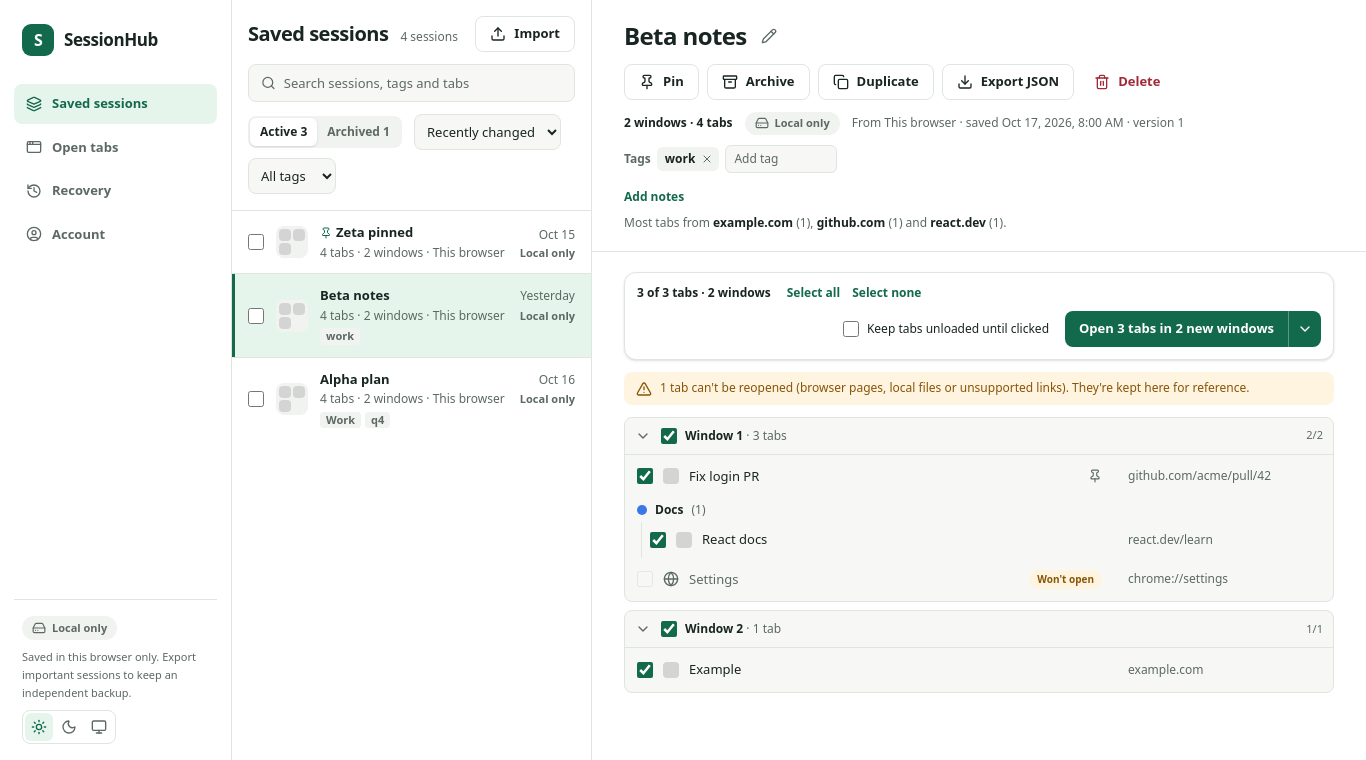
Test: the inspector › pins, tags, adds notes, duplicates and archives the open session
Click the button "Pin": (661, 82) 624,64 -> 699,100
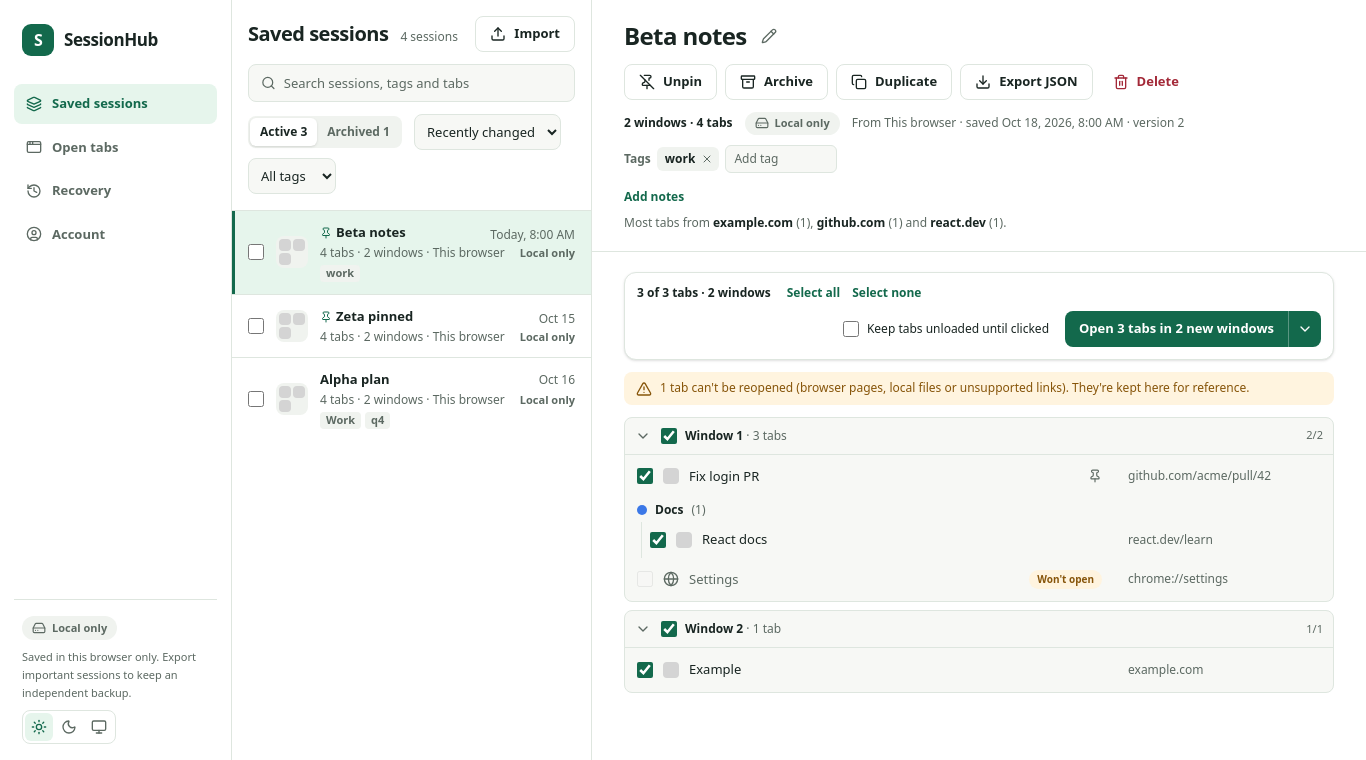
Expected: the text "Beta notes" is shown, 336,223 -> 406,242
Now the button "Unpin" is pressed, box 624,64 -> 717,100
In the field named "Add a tag": (781, 159) 725,145 -> 837,173, type "reading"
Then press Enter
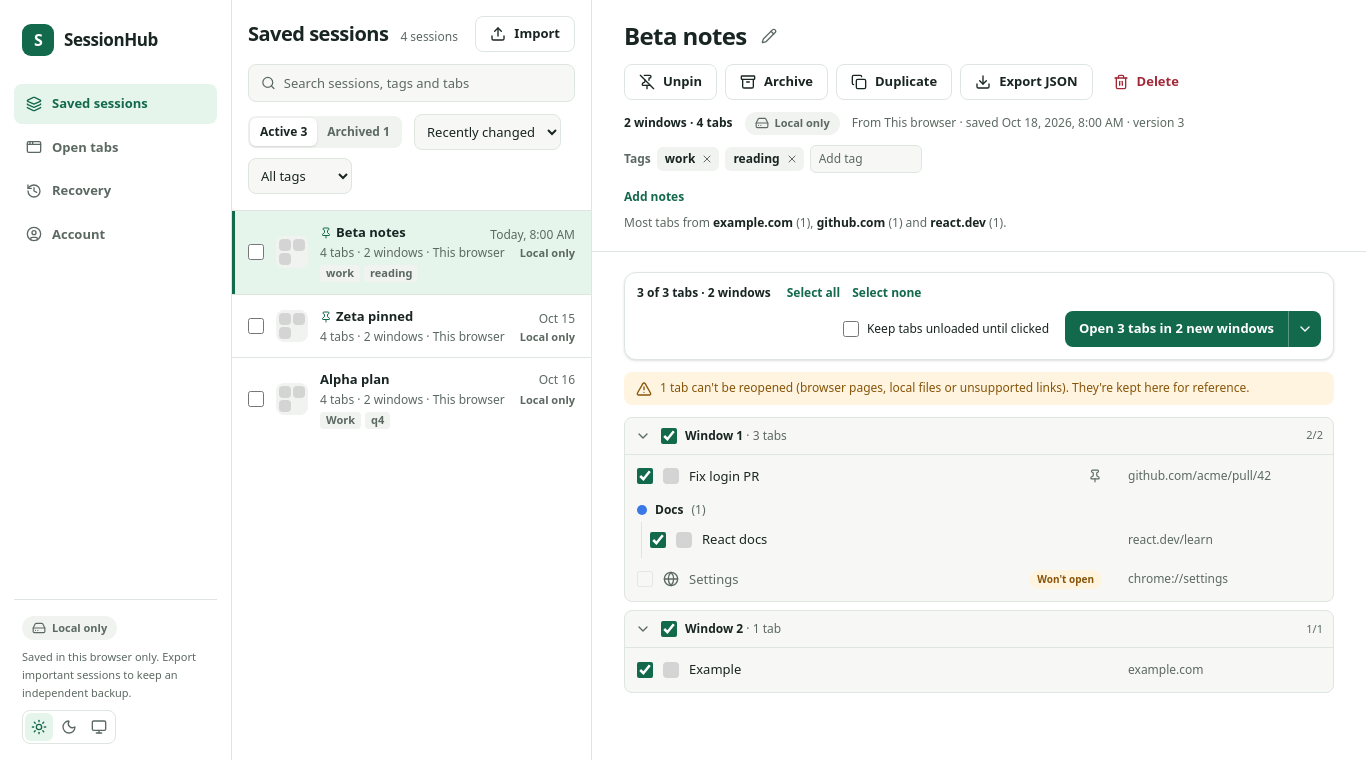
Now the button named "Remove tag reading" is shown, box 782,149 -> 802,169
Click the button "Add notes": (654, 197) 624,189 -> 684,205
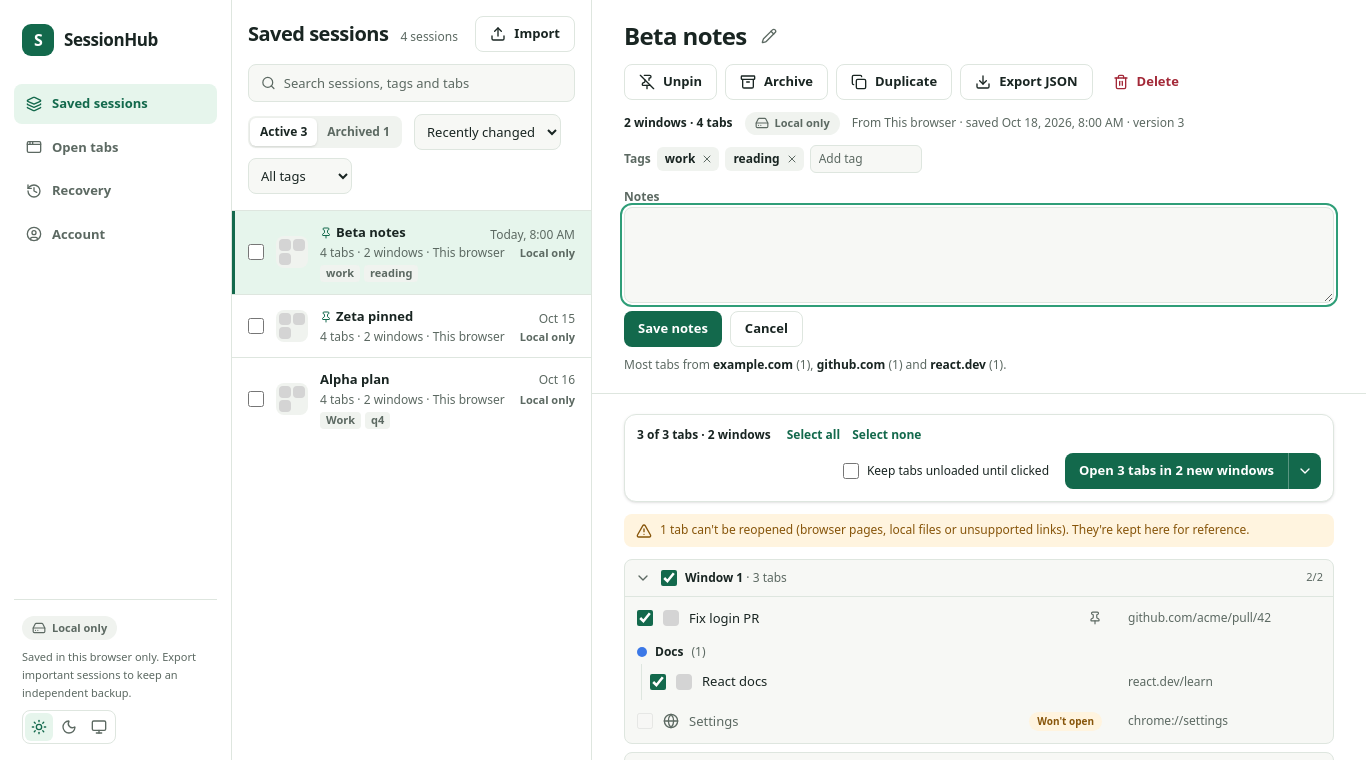
In the text box labelled "Notes": (979, 255) 624,207 -> 1334,303, type "Finish chapter 3"
Click the button "Save notes": (673, 329) 624,311 -> 722,347
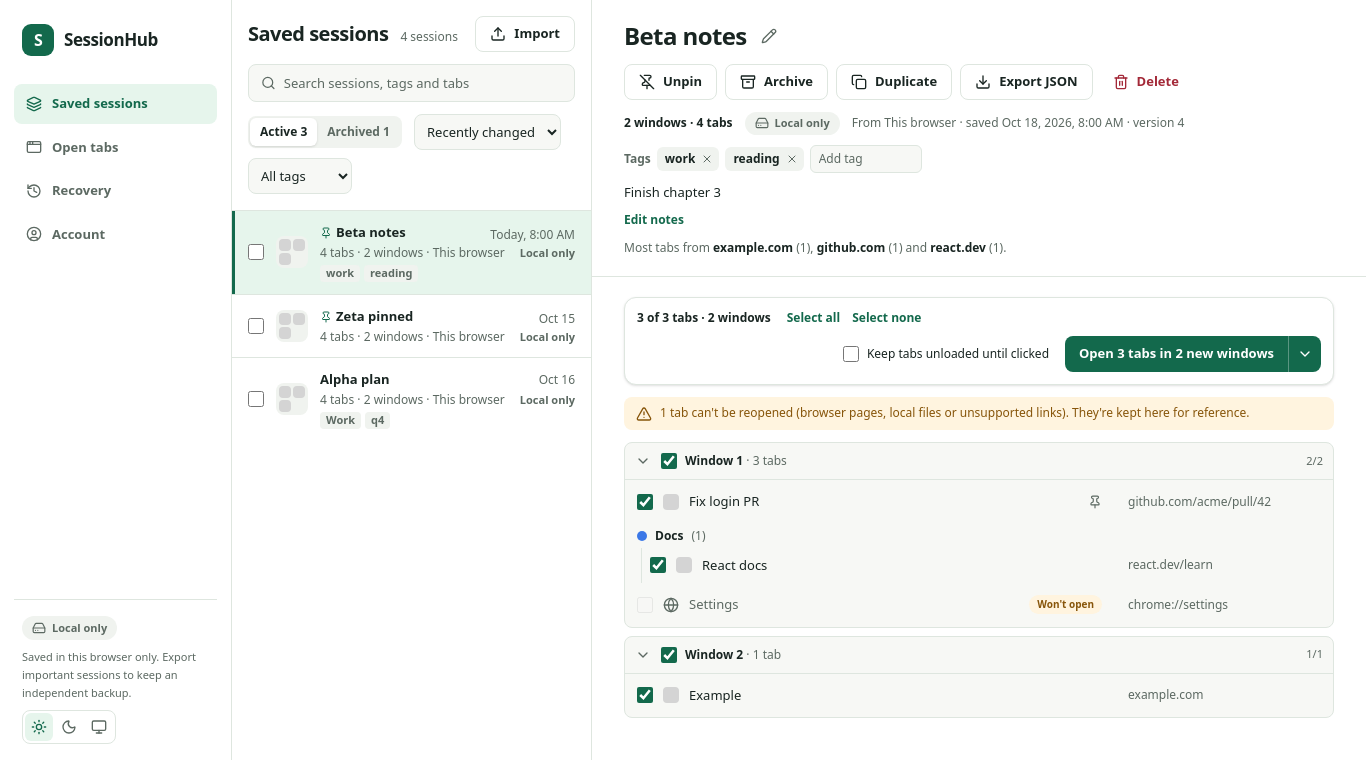
Expected: the text "Most tabs from" is shown, 624,239 -> 710,256
Now the text "Finish chapter 3" is shown, box 624,183 -> 721,201
Click the button "Duplicate": (894, 82) 836,64 -> 952,100
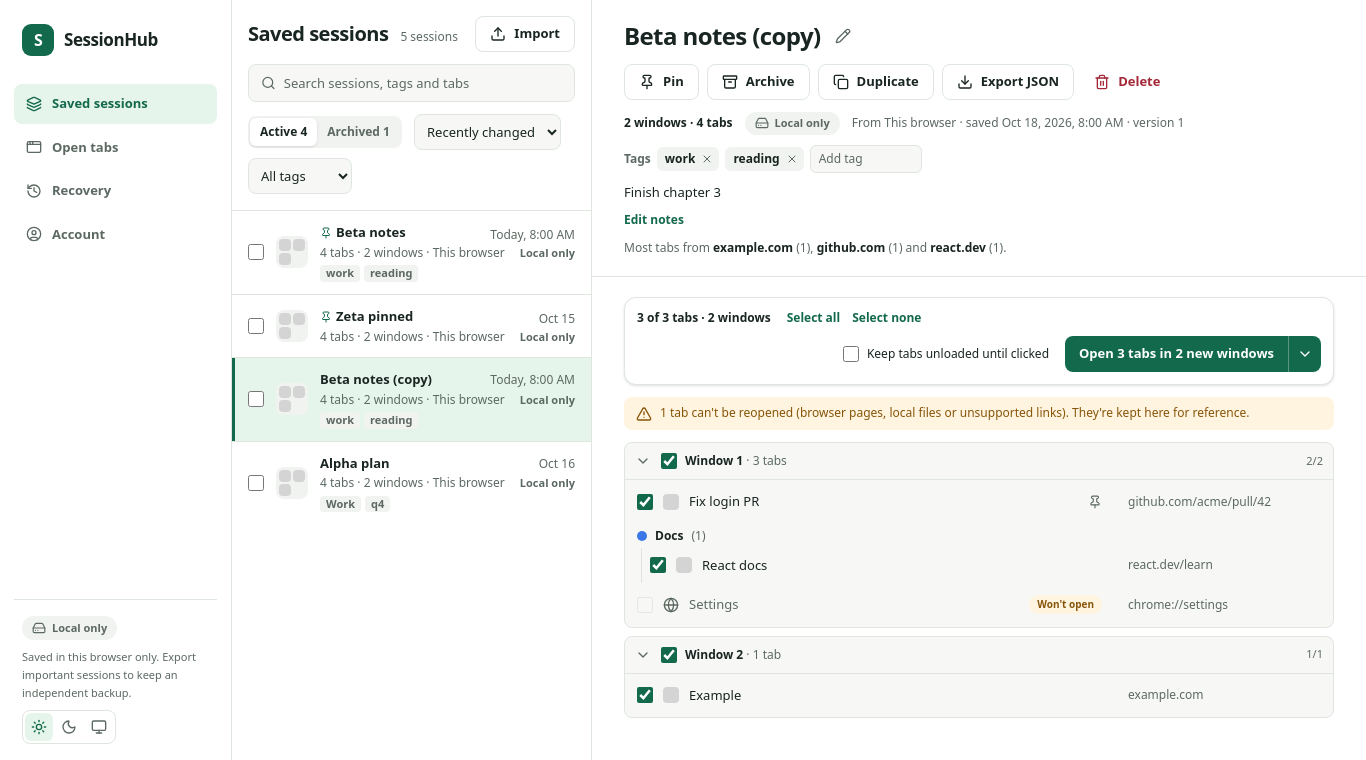
Now the heading "Beta notes (copy)" is shown, box 624,20 -> 820,52
Click the button "Archive": (758, 82) 707,64 -> 810,100
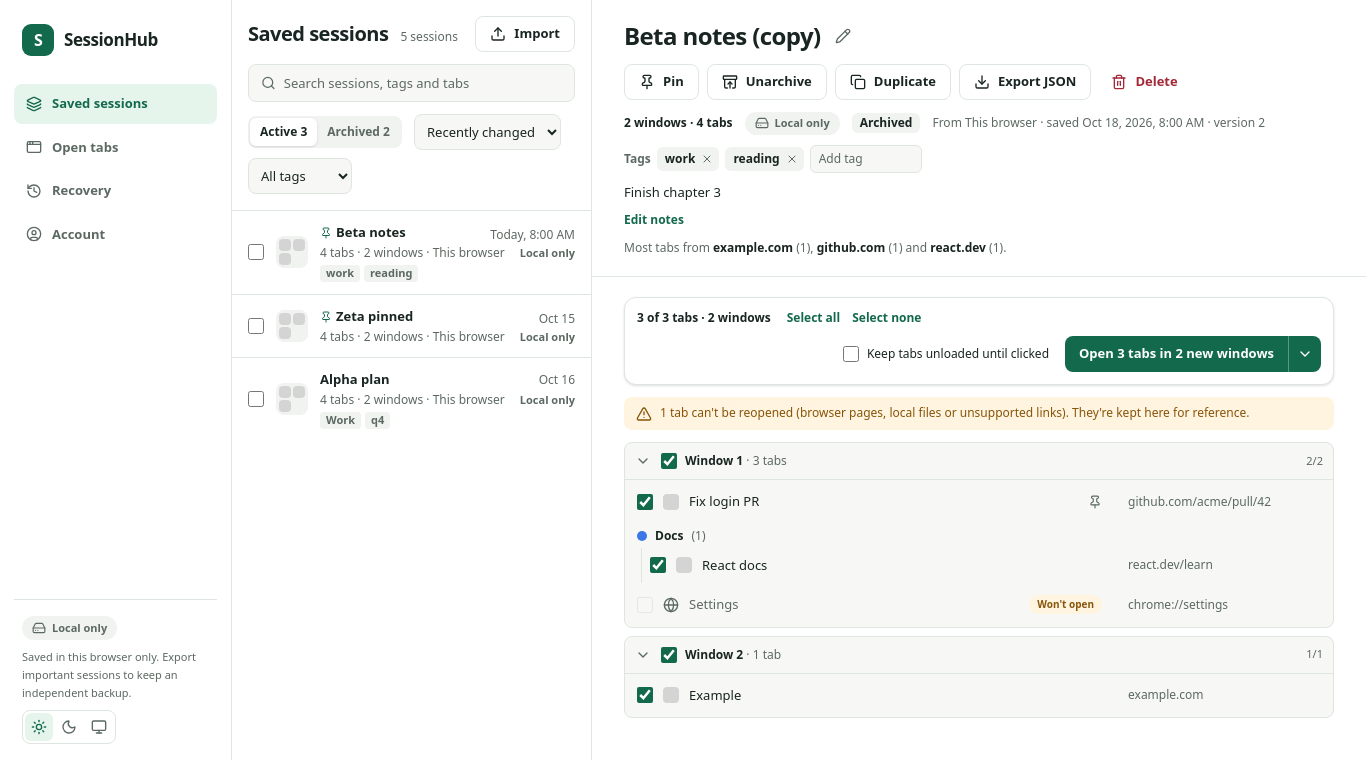
Now the text "Archived" is shown, box 852,113 -> 920,133
